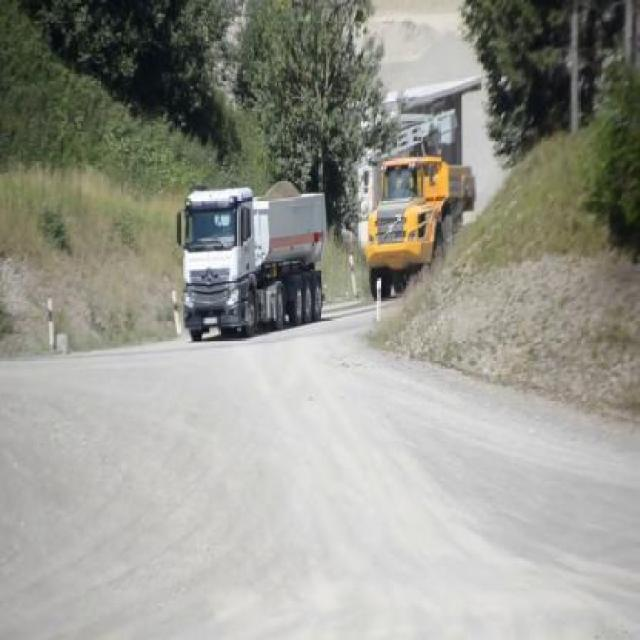Dump Truck: (174, 185, 328, 341), (363, 154, 477, 304)
